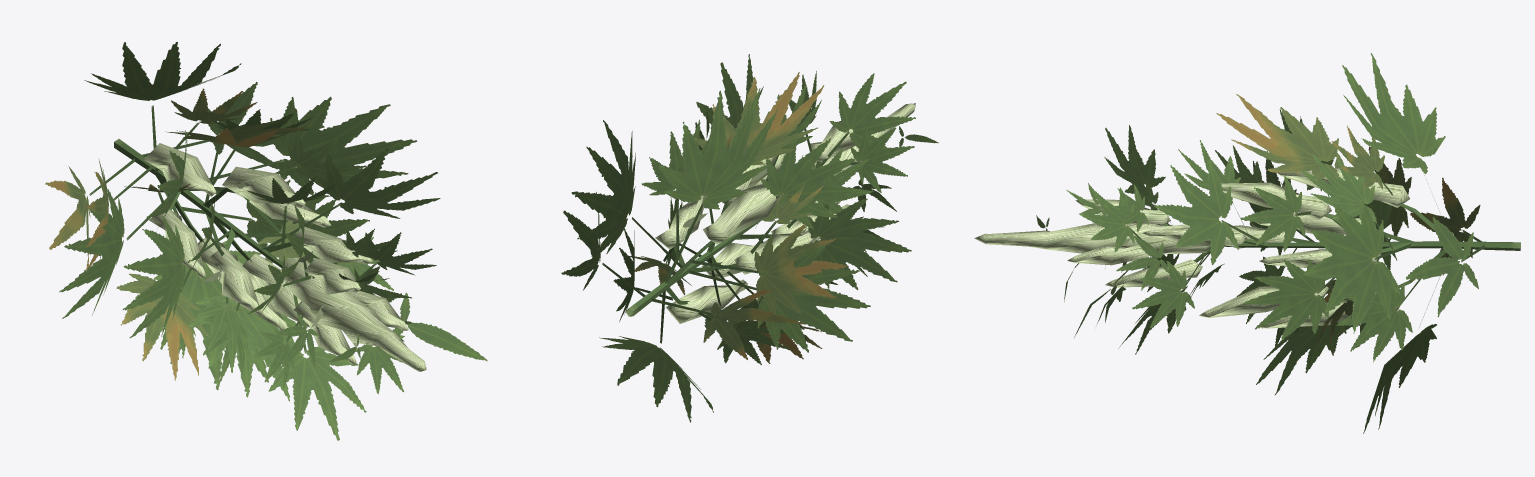
The model's file is p_frosty_haze_ripe_c0_cards.obj.
The picture shows the model from 3 angles, left to right: view 1: azimuth 30°, elevation 25°; view 2: azimuth 150°, elevation 25°; view 3: azimuth 270°, elevation 25°; orthographic projection. The views are drawn at different scales.
Bounding box in the file's own units: 1.49 × 1.59 × 2.03.
1 material, 1 textured.
